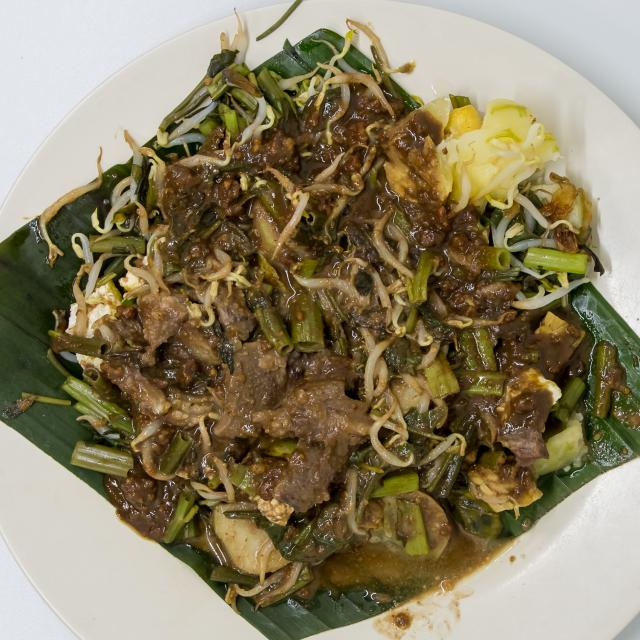Rujak-Cingur: (50, 9, 617, 602)
